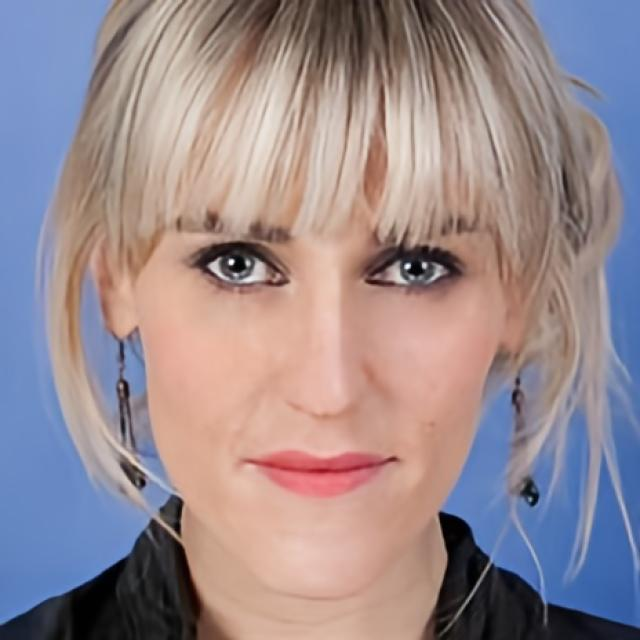content: (136, 96, 516, 598)
